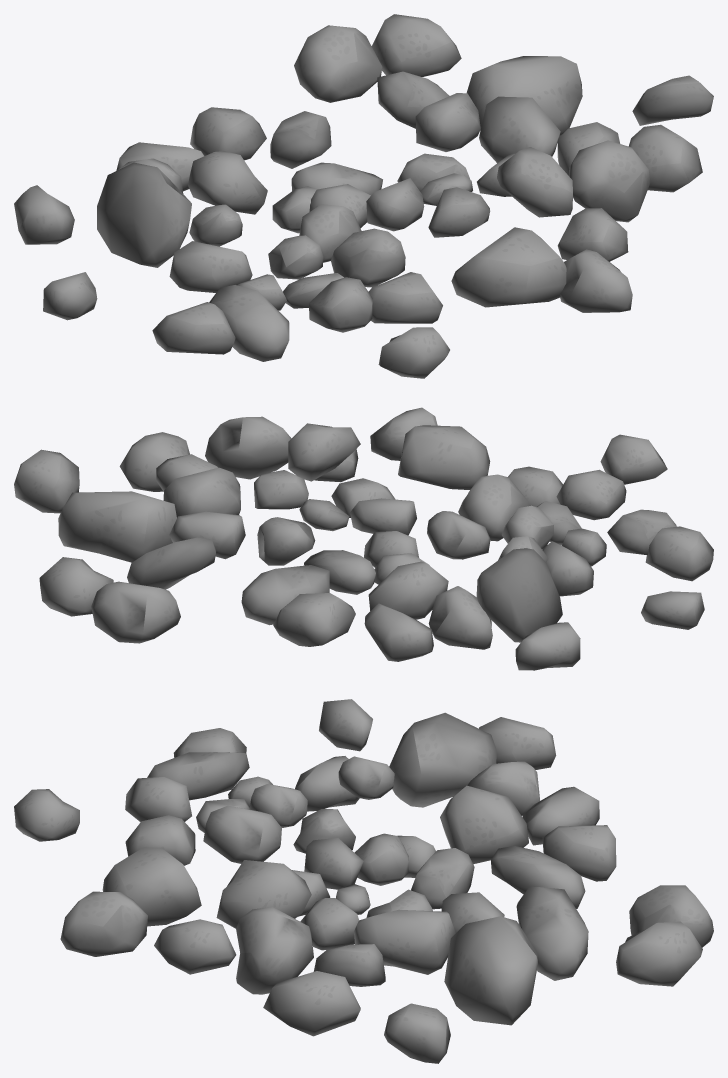
The model's file is PebNest00.fbx.
The picture shows the model from 3 angles, top to bottom: view 1: azimuth 30°, elevation 25°; view 2: azimuth 150°, elevation 25°; view 3: azimuth 270°, elevation 25°; orthographic projection. The views are drawn at different scales.
Visible parts, largest first — view 1: PebNest00; view 2: PebNest00; view 3: PebNest00.
Boxes of the visible parts, left/top/right/bottom form: PebNest00: left=14, top=14, right=713, bottom=378; PebNest00: left=14, top=407, right=713, bottom=670; PebNest00: left=14, top=699, right=713, bottom=1063.
Size of the model in its own units: 61.65 by 7.91 by 52.9.
